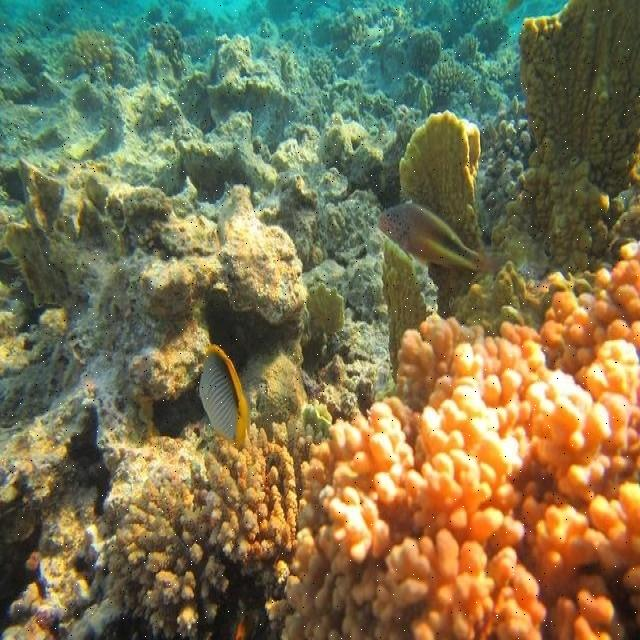fish: (376, 203, 496, 274), (199, 345, 248, 447)
reefs: (266, 242, 639, 639), (98, 402, 332, 638), (494, 0, 637, 272), (400, 110, 484, 254), (383, 241, 426, 380)
